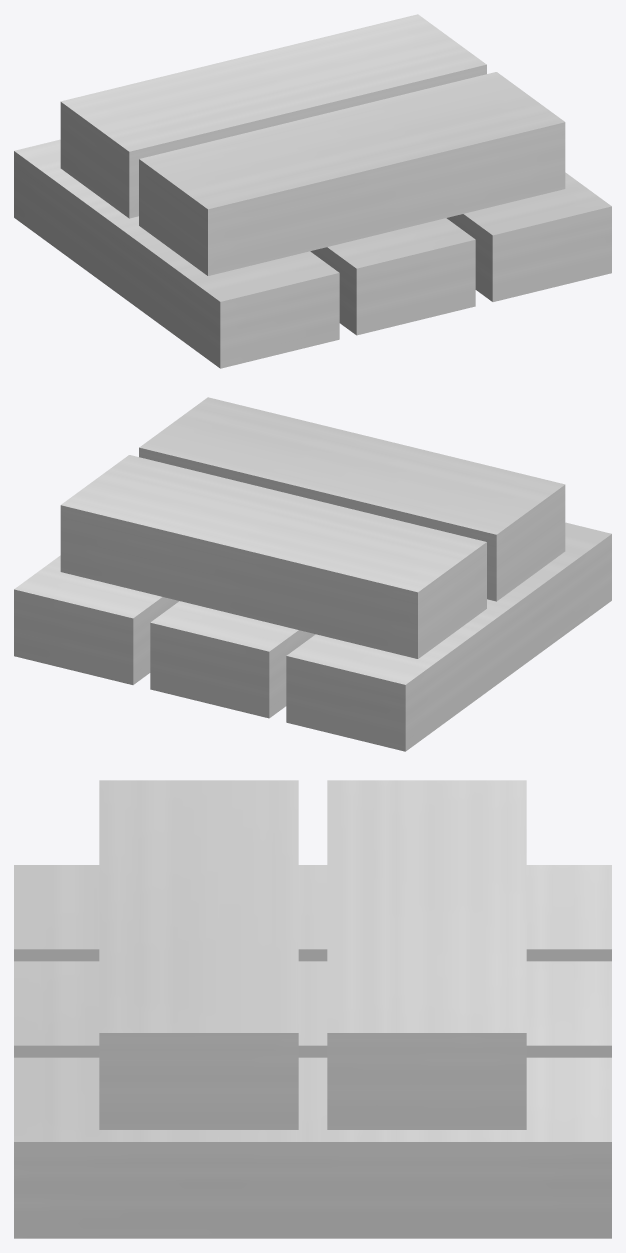
The model's file is item_uranium.obj.
3 views of the same model, one above another, from view 1: azimuth 30°, elevation 25°; view 2: azimuth 150°, elevation 25°; view 3: azimuth 270°, elevation 25° (orthographic). The views are drawn at different scales.
Visible parts, largest first — view 1: item_uranium; view 2: item_uranium; view 3: item_uranium.
Boxes of the visible parts, <box> form: item_uranium: <box>14,14,611,368</box>; item_uranium: <box>14,397,611,751</box>; item_uranium: <box>14,780,611,1238</box>.
Size of the model in its own units: 0.46 by 0.15 by 0.42.
